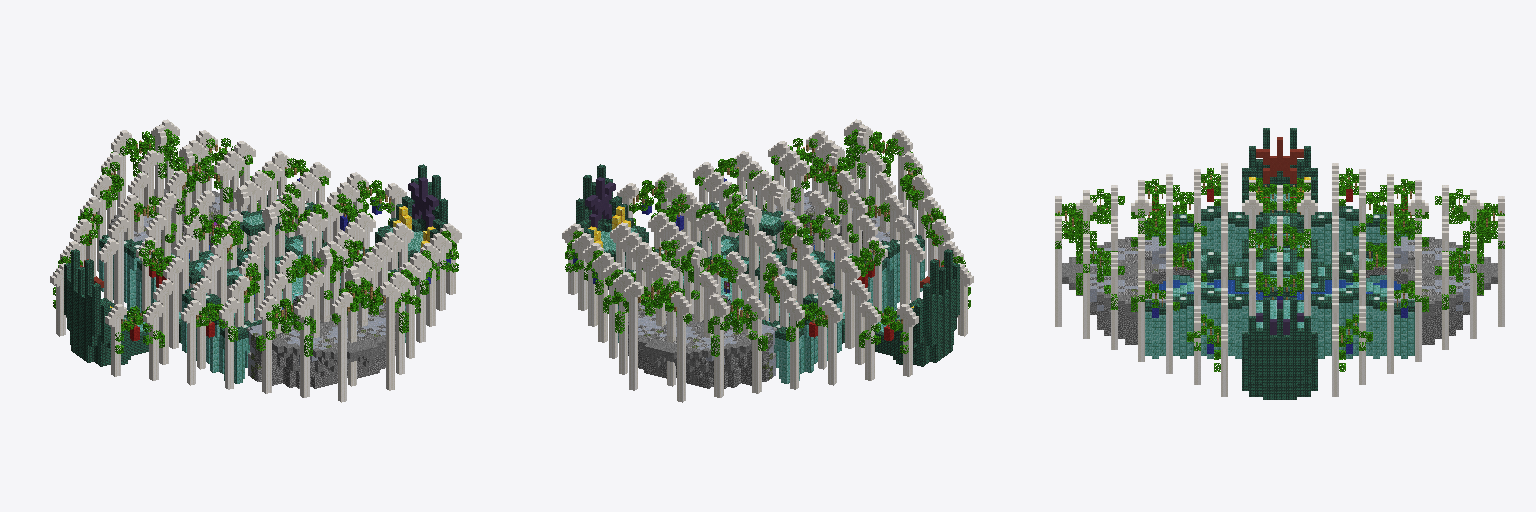
The picture shows the model from 3 angles: view 1: azimuth 30°, elevation 25°; view 2: azimuth 150°, elevation 25°; view 3: azimuth 270°, elevation 25°; orthographic projection.
Size of the model in its own units: 59 by 18.5 by 65.
Materials: 30 (27 with a texture image).